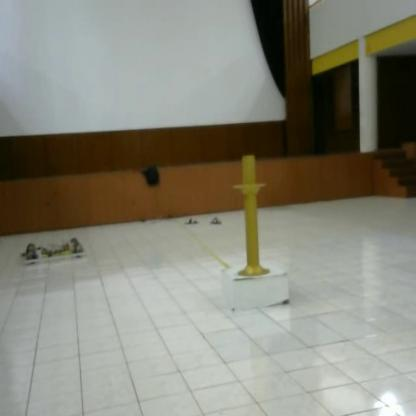pole: (230, 149, 275, 287)
